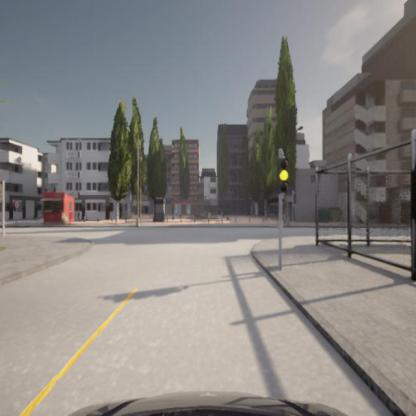traffic_light_orange: (278, 156, 289, 193)
